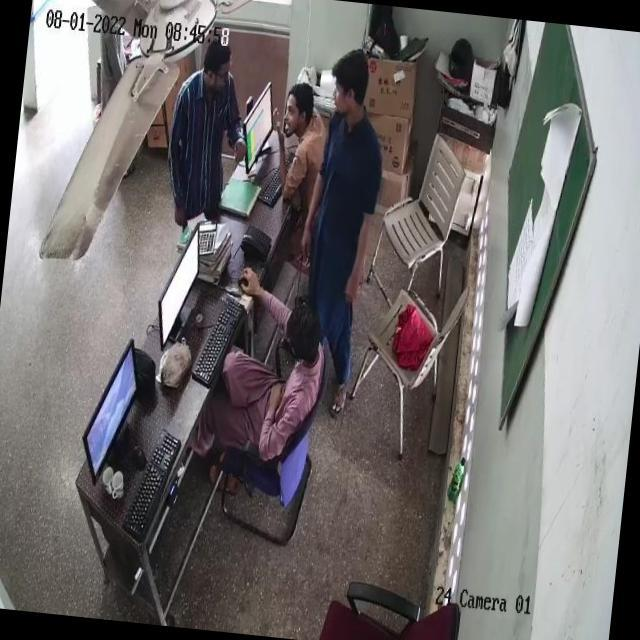person: (299, 52, 391, 413), (210, 294, 326, 456), (166, 39, 244, 225), (268, 81, 335, 239)
